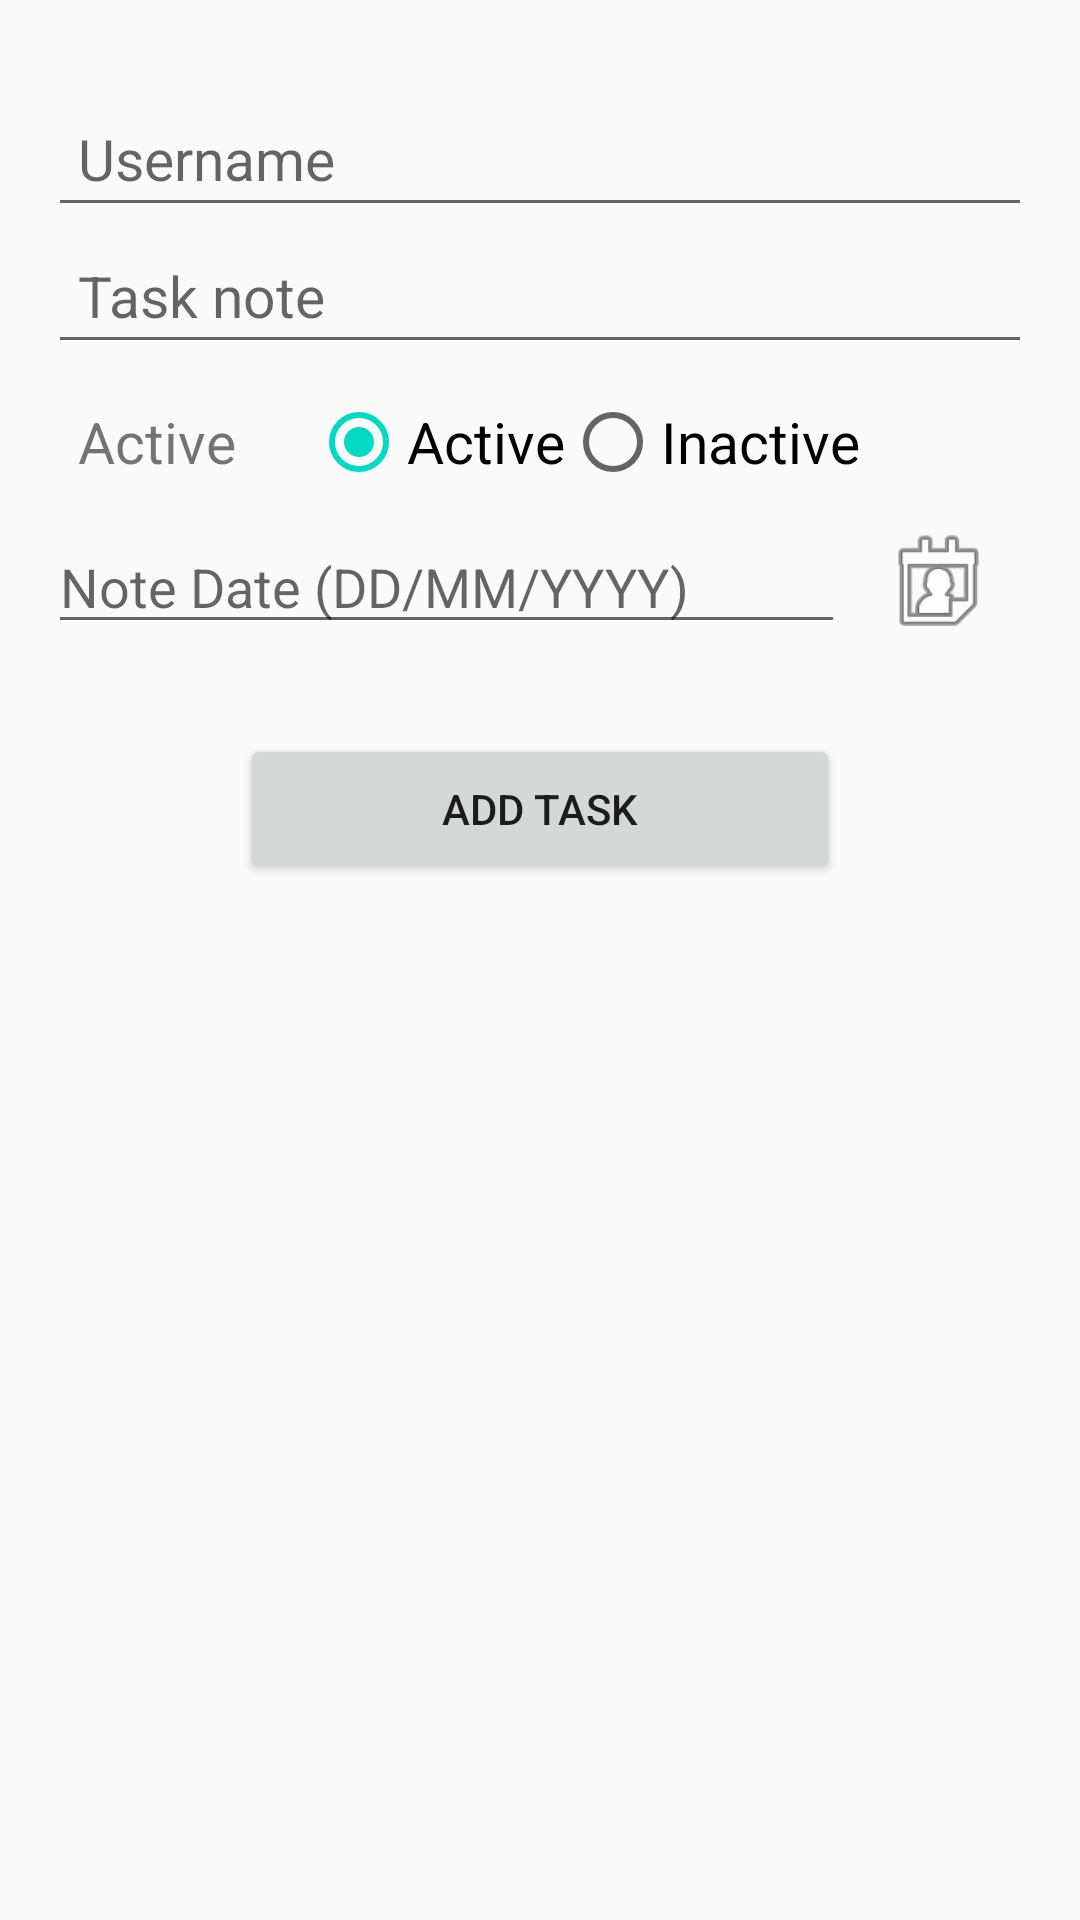

Named icons in this screenshot (1080px×1920px) and their centers, [x,y]:
calendar: [938,580]
